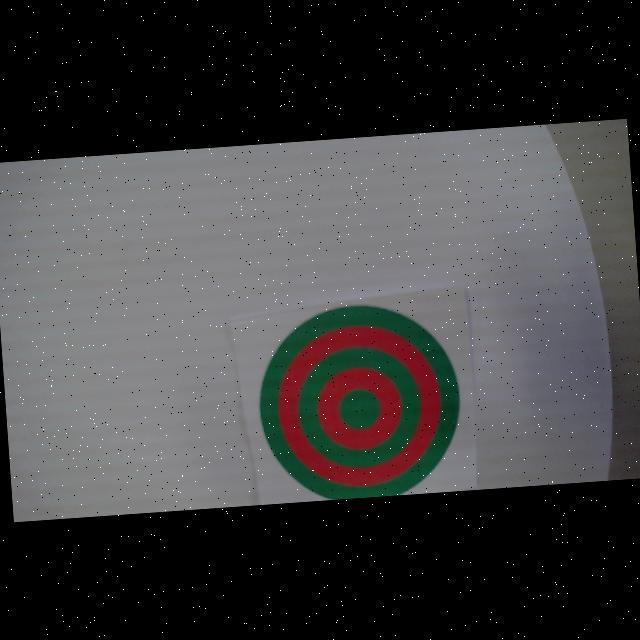COGNITIVE: (252, 298, 466, 504)
